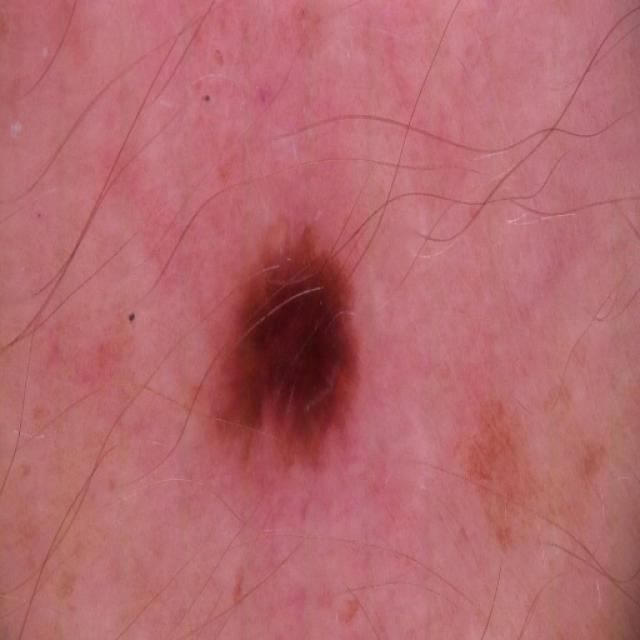Melanoma: (220, 229, 359, 459)
